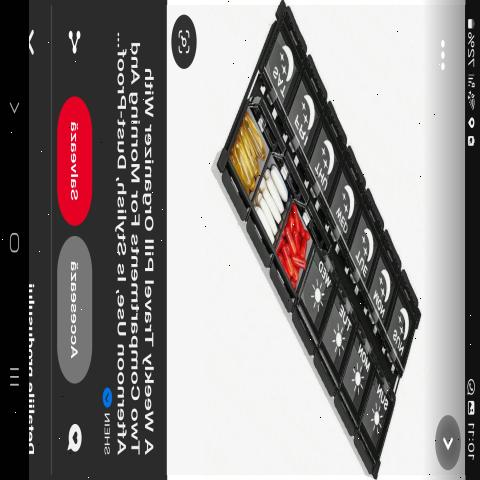PillBox: (209, 1, 424, 471)
